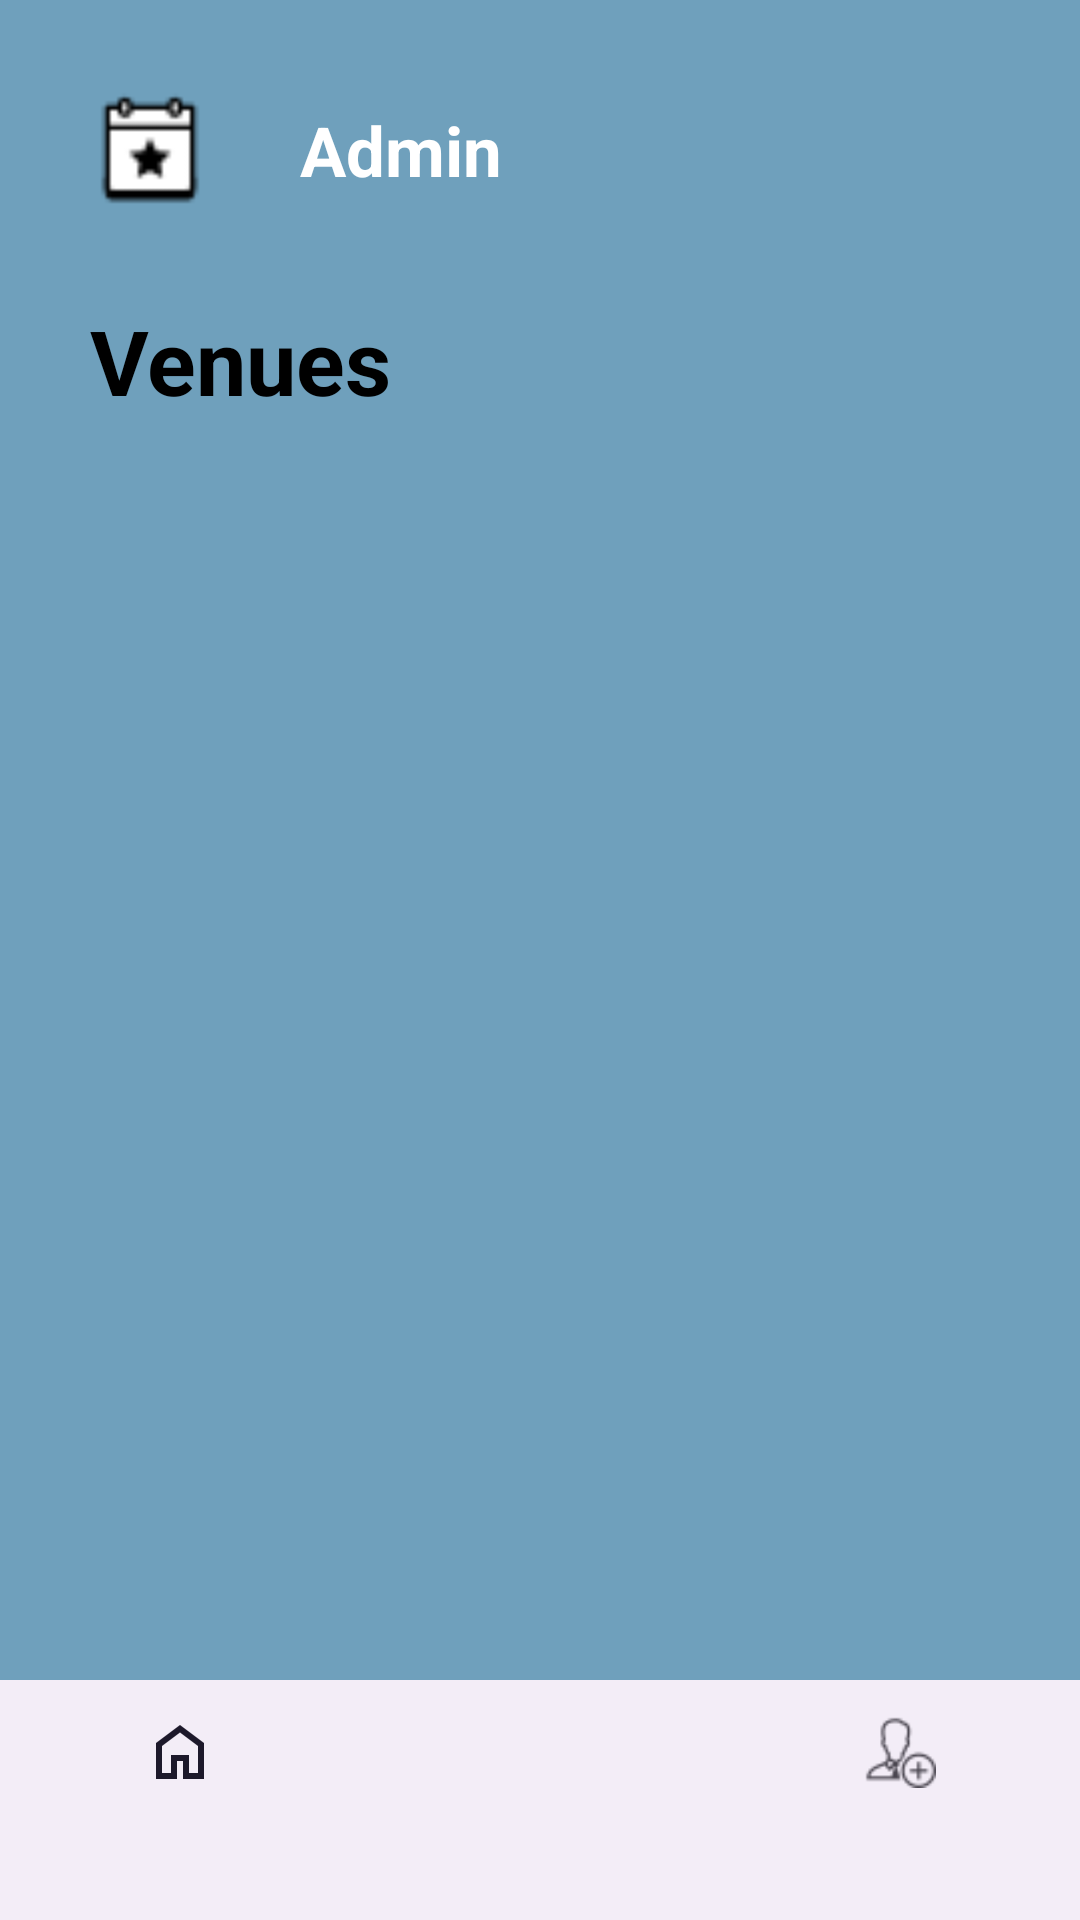

Icon click points for this 1080px x 1920px phone screenshot, format (x=x, y=y):
events: (x=150, y=149)
